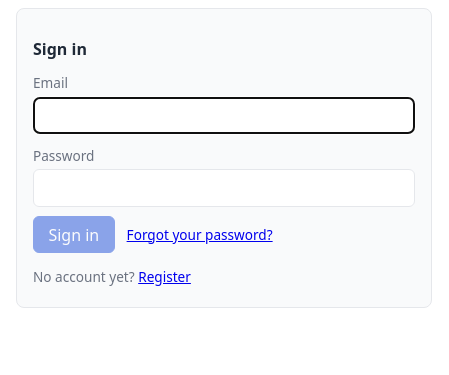
Test: /login › shows the server’s refusal and stays put
The image size is (449, 375).
Check: the button "Sign in" is shown, box [33, 216, 115, 253]
Type "ada@example.com" into the field labelled "Email" at (224, 115), box [33, 97, 415, 134]
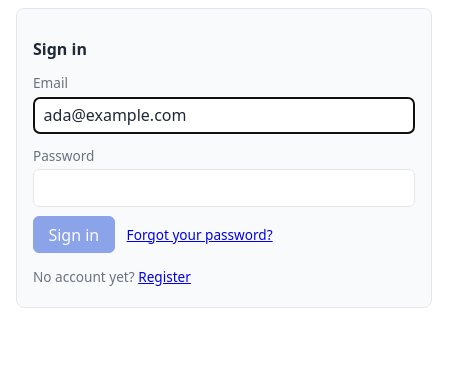
Type "nope" into the password field labelled "Password" at (224, 188), box [33, 169, 415, 206]
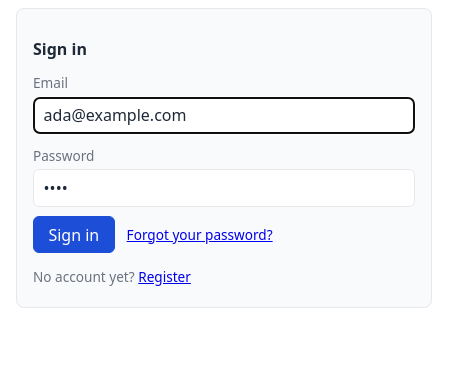
Click the button "Sign in" at (74, 235), box [33, 216, 115, 253]
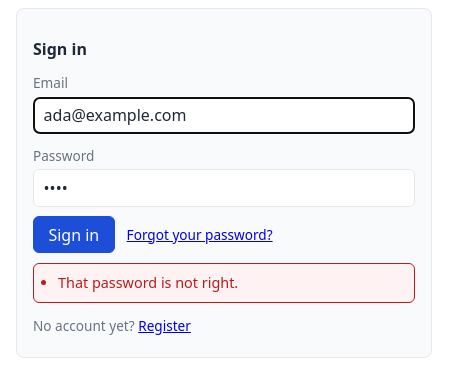
Check: the list item "That password is not right." is shown, box [58, 273, 238, 292]
